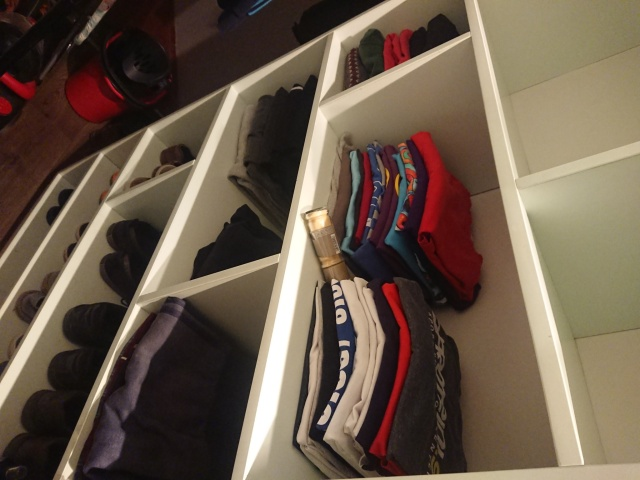Kotanyi Garlic Granules 70g: (301, 205, 354, 290)
